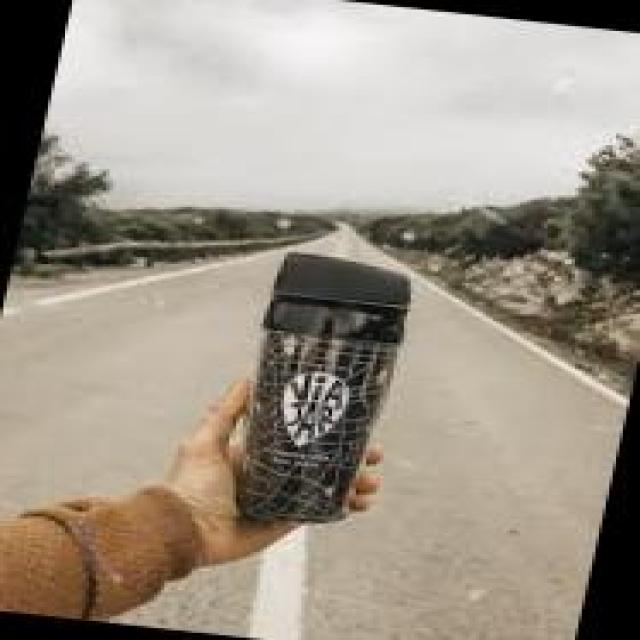bottle: (218, 244, 420, 527)
